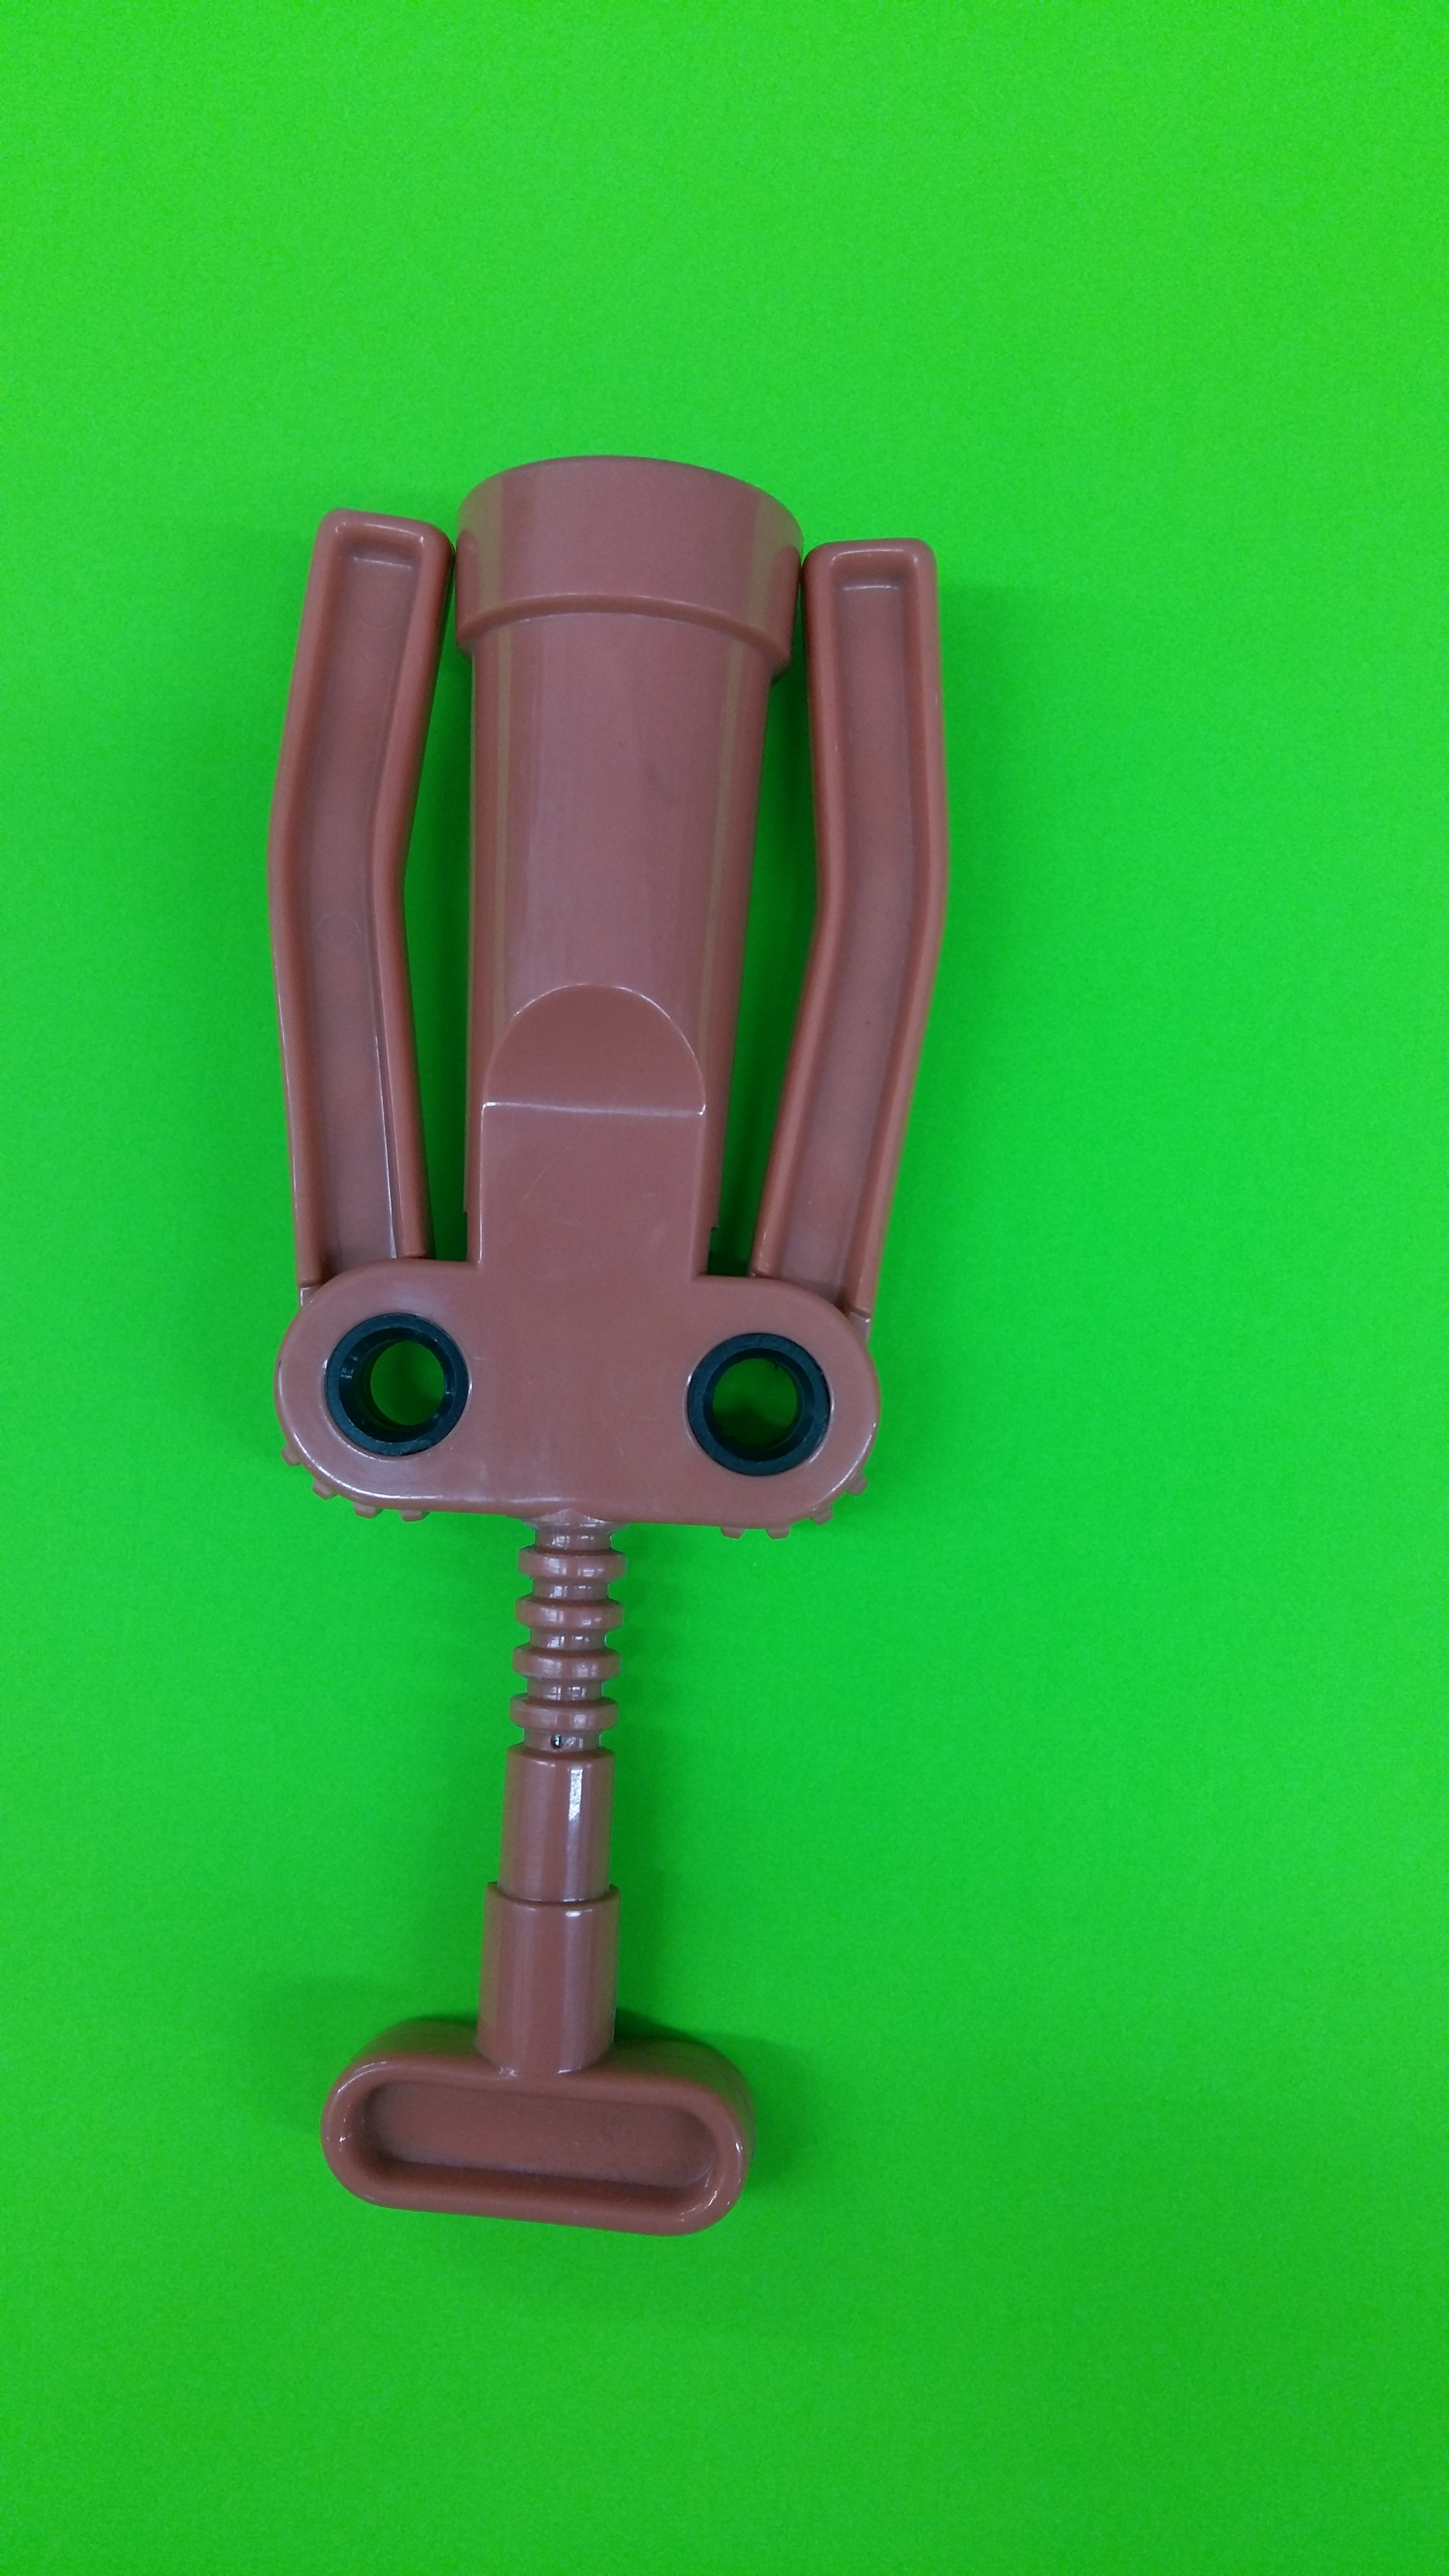bottleopener: (265, 458, 947, 2240)
